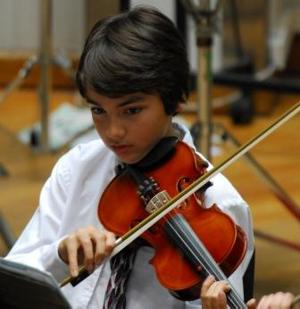person: (2, 7, 256, 309)
